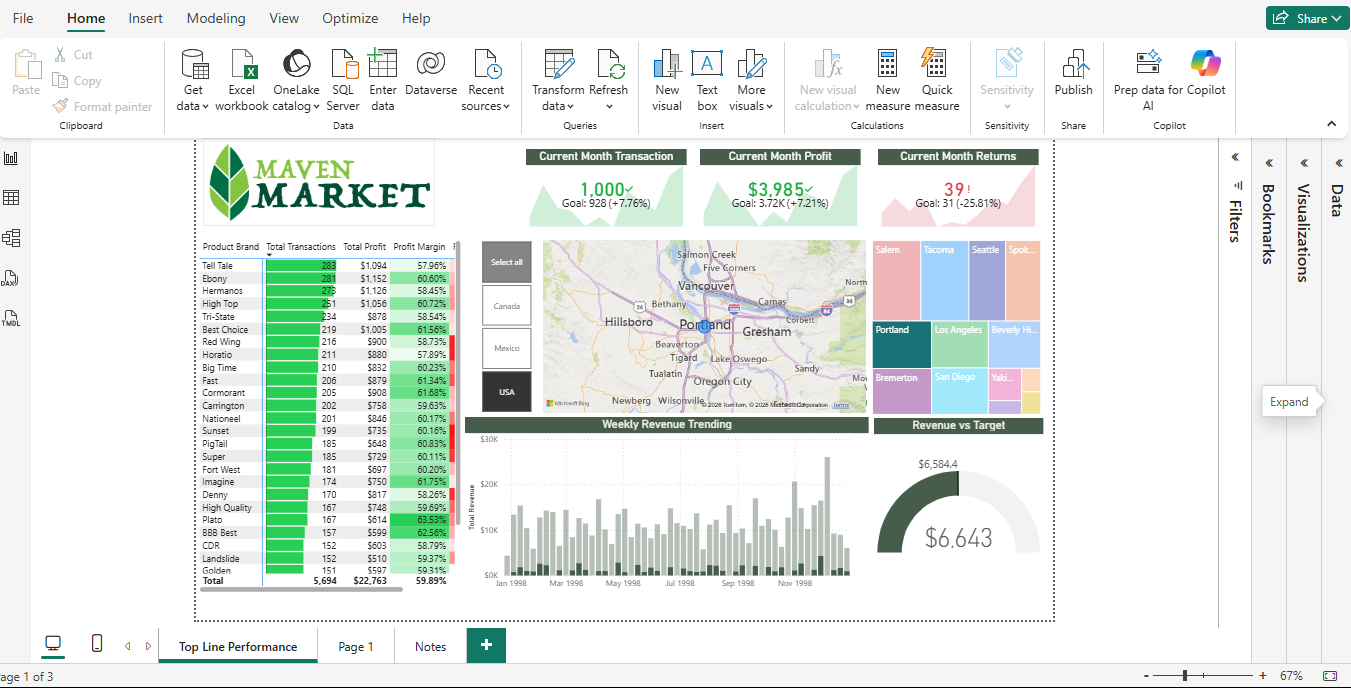

The dashboard page shown, as its layout file describes it:
{"tool":"powerbi","page":{"name":"Top Line Performance","canvas":[1280,720],"ordinal":0},"visuals":[{"type":"image","box":[10.5,0,346,132],"z":0},{"type":"pivotTable","fields":{"Values":["Transaction Data.Total Transactions","Transaction Data.Total Profit","Transaction Data.Profit Margin","Return_Data.Return Rate"],"Rows":["Products.product_brand"]},"box":[0,147.9,401,536],"z":1000},{"type":"kpi","title":"Current Month Transaction","fields":{"Indicator":["Transaction Data.Total Transactions"],"TrendLine":["Calendar.Start of Month"],"Goal":["Transaction Data.Last Month Transactions"]},"box":[492.9,16.4,240,121],"z":2000},{"type":"kpi","title":"Current Month Profit","fields":{"Indicator":["Transaction Data.Total Profit"],"TrendLine":["Calendar.Start of Month"],"Goal":["Transaction Data.Last Month Profit"]},"box":[752.5,16.8,240,120.9],"z":3000},{"type":"kpi","title":"Current Month Returns","fields":{"Indicator":["Return_Data.Total Returns"],"TrendLine":["Calendar.Start of Month"],"Goal":["Transaction Data.Last Month Returns"]},"box":[1018.8,16.4,240,121],"z":4000},{"type":"map","fields":{"Category":["Stores.store_city"],"Size":["Transaction Data.Total Transactions"]},"box":[513.3,148.3,491.7,268.3],"z":5000},{"type":"slicer","fields":{"Values":["Stores.store_country"]},"box":[401.7,148.3,123.3,268.3],"z":6000},{"type":"treemap","fields":{"Values":["Transaction Data.Total Transactions"],"Group":["Stores.store_country","Stores.store_state","Stores.store_city"]},"box":[1005,148.3,261.7,270],"z":7000},{"type":"columnChart","title":"Weekly Revenue Trending","fields":{"Y":["Transaction Data.Total Revenue"],"Category":["Calendar.Start of Week"]},"box":[401.7,416.7,603.3,266.7],"z":8000},{"type":"gauge","title":" Revenue vs Target","fields":{"Y":["Transaction Data.Total Revenue"],"TargetValue":["Transaction Data.Revenue Target"]},"box":[1013.3,418.3,253.3,230],"z":9000}]}

Visuals, with their boxes on the page's 1280x720 design canvas (x1, y1, x2, y2). These are canvas units, not pixel positions in the 1351x688 screenshot, which may show the page scaled, cropped or inside an application window:
image: locate(10, 0, 356, 132)
pivotTable - Transaction Data.Total Transactions x Transaction Data.Total Profit: locate(0, 148, 401, 684)
"Current Month Transaction" kpi: locate(493, 16, 733, 137)
"Current Month Profit" kpi: locate(752, 17, 992, 138)
"Current Month Returns" kpi: locate(1019, 16, 1259, 137)
map - Stores.store_city x Transaction Data.Total Transactions: locate(513, 148, 1005, 417)
slicer - Stores.store_country: locate(402, 148, 525, 417)
treemap - Transaction Data.Total Transactions x Stores.store_country: locate(1005, 148, 1267, 418)
"Weekly Revenue Trending" columnChart: locate(402, 417, 1005, 683)
" Revenue vs Target" gauge: locate(1013, 418, 1267, 648)
